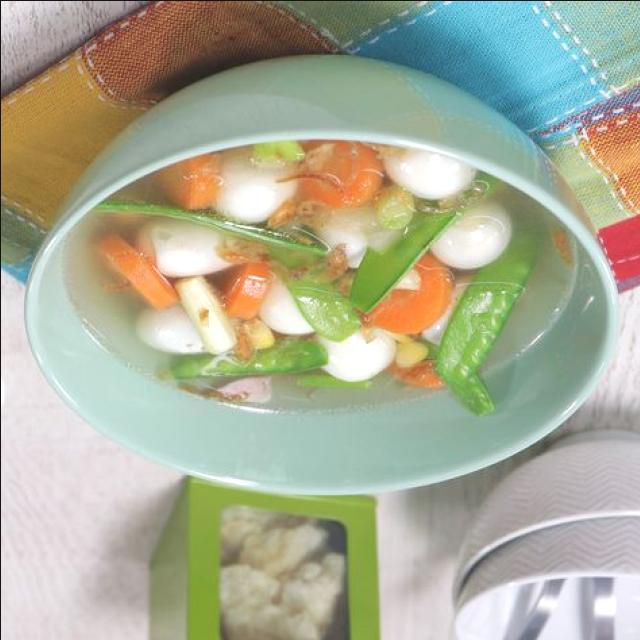sop: (54, 136, 578, 412)
